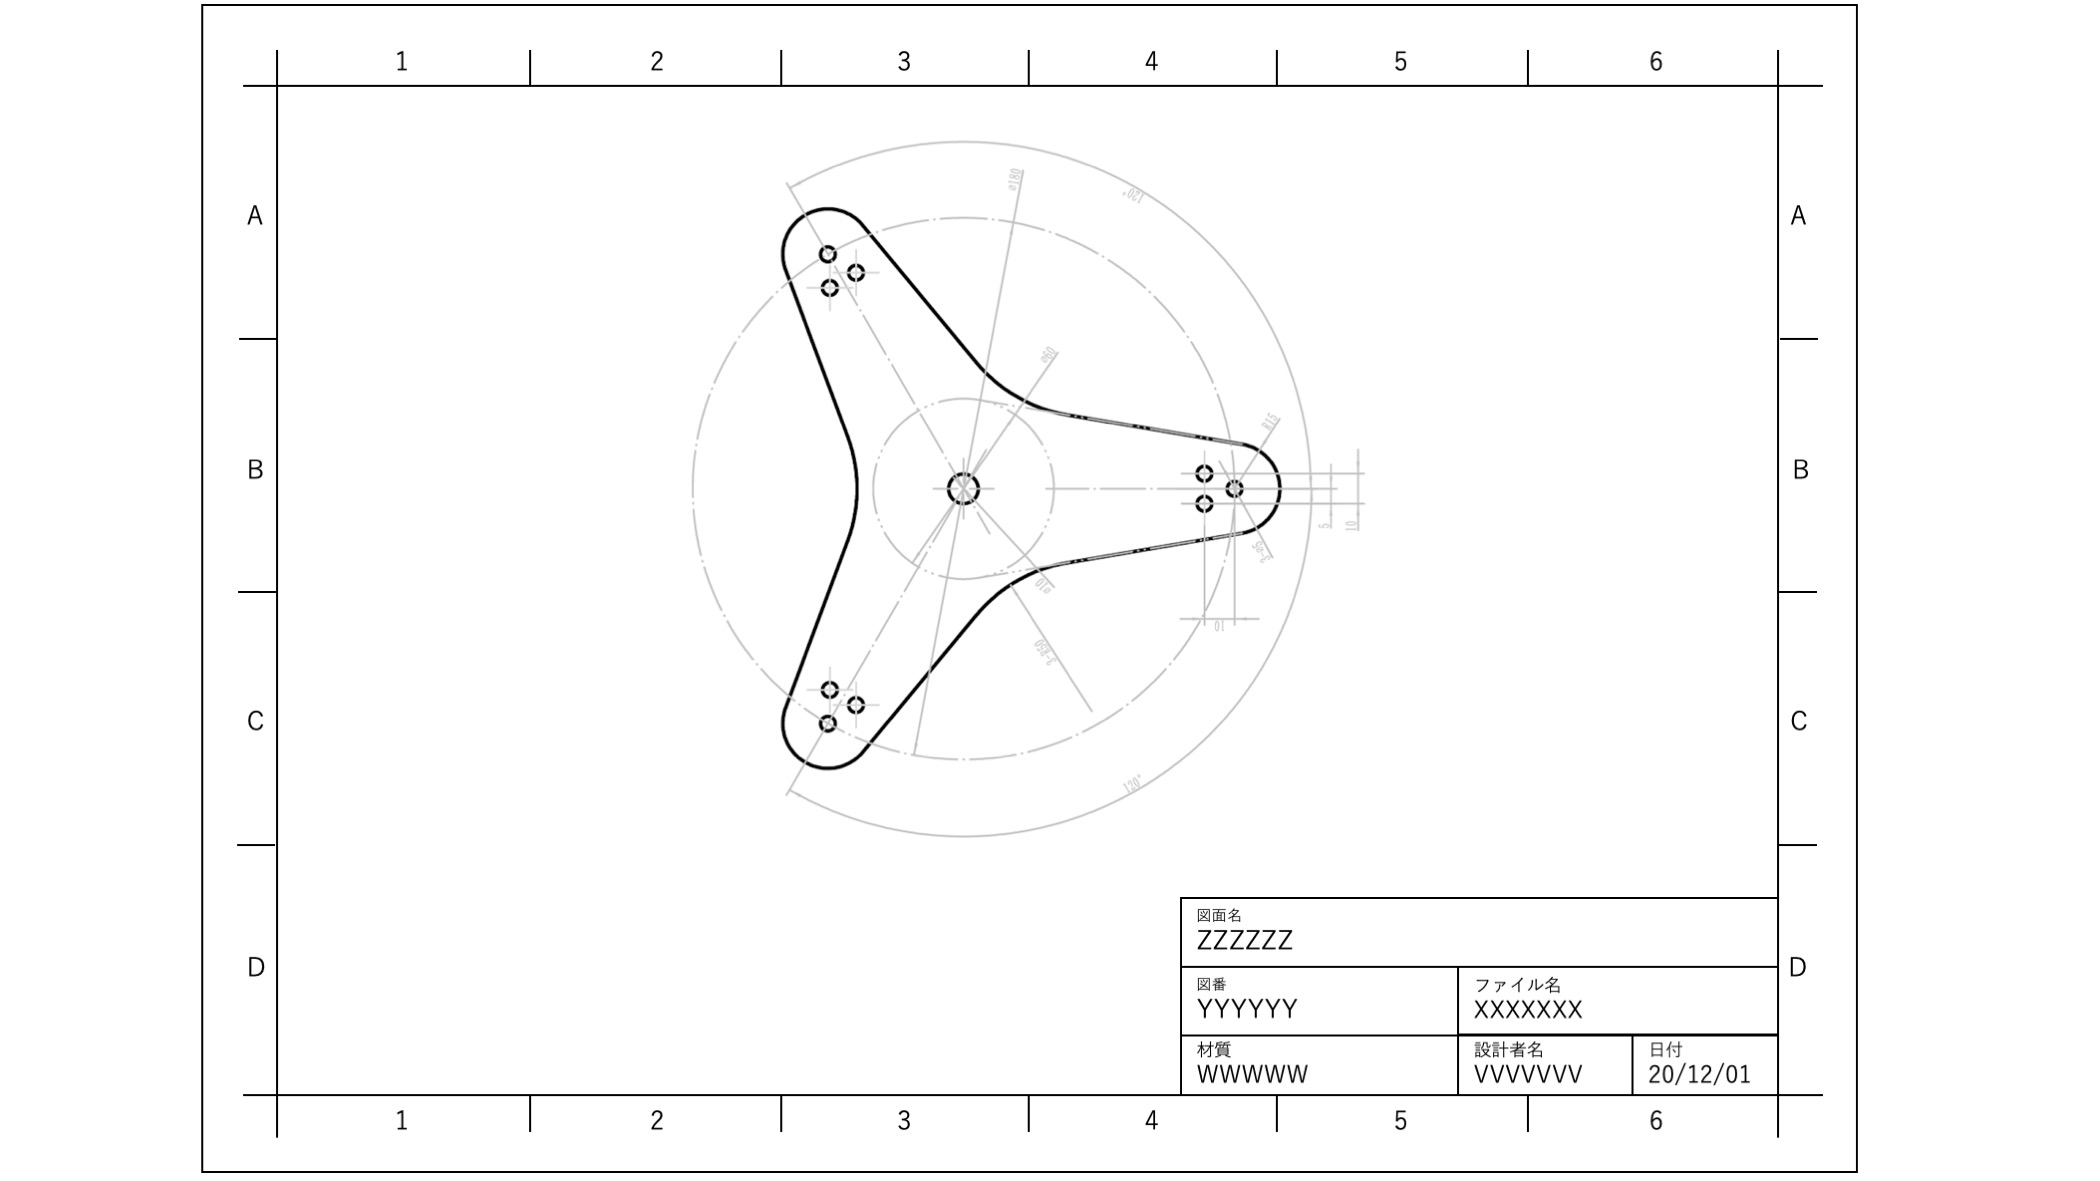circle: (943, 469, 987, 505), (813, 672, 854, 701), (811, 708, 850, 735), (845, 255, 875, 283), (1187, 490, 1217, 518), (1190, 456, 1225, 479), (1222, 470, 1250, 497), (838, 692, 871, 715), (813, 275, 841, 297), (813, 239, 838, 258)
